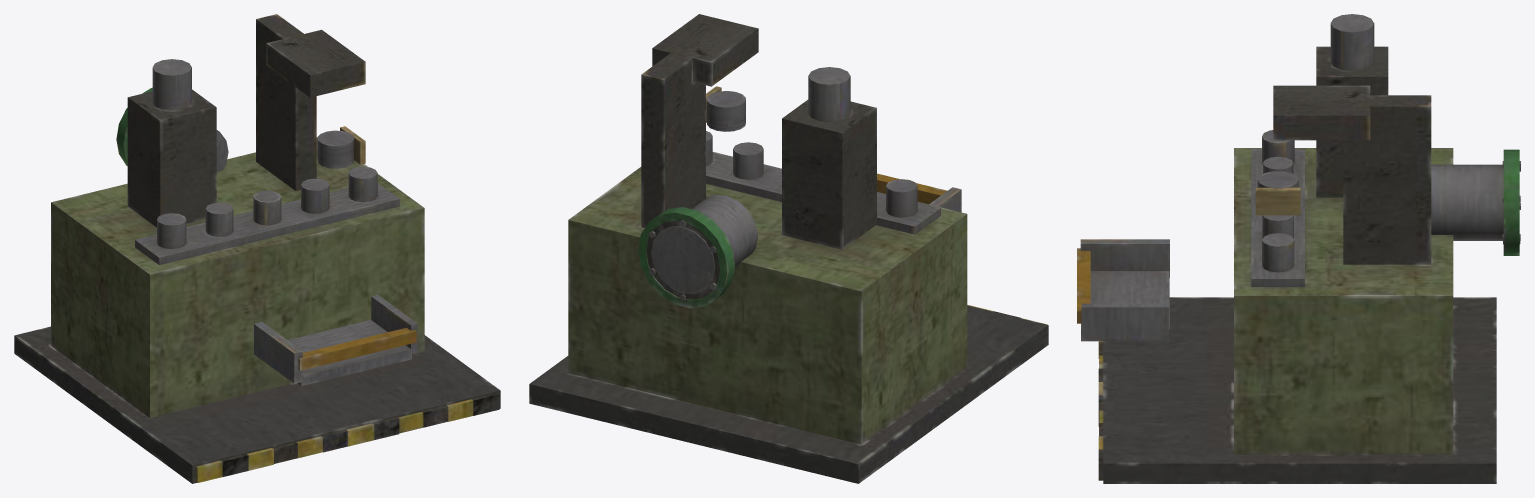
The model's file is feCanner.glb.
3 renders of one model, left to right at view 1: azimuth 30°, elevation 25°; view 2: azimuth 150°, elevation 25°; view 3: azimuth 270°, elevation 25°, orthographic. The views are drawn at different scales.
Visible parts, largest first — view 1: feCanner_Base, FeWorkSpin_x3_Seamer; view 2: feCanner_Base, FeWorkSpin_x3_Seamer; view 3: feCanner_Base, FeWorkSpin_x3_Seamer.
Part boxes in pixels (x1=…): feCanner_Base: x1=14, y1=14, x2=500, y2=483; FeWorkSpin_x3_Seamer: x1=317, y1=126, x2=365, y2=168; feCanner_Base: x1=529, y1=14, x2=1048, y2=483; FeWorkSpin_x3_Seamer: x1=706, y1=86, x2=745, y2=131; feCanner_Base: x1=1077, y1=14, x2=1520, y2=483; FeWorkSpin_x3_Seamer: x1=1255, y1=171, x2=1300, y2=215.
Bounding box in the file's own units: 0.9012 × 0.8706 × 1.02.
1 material, 1 textured.
